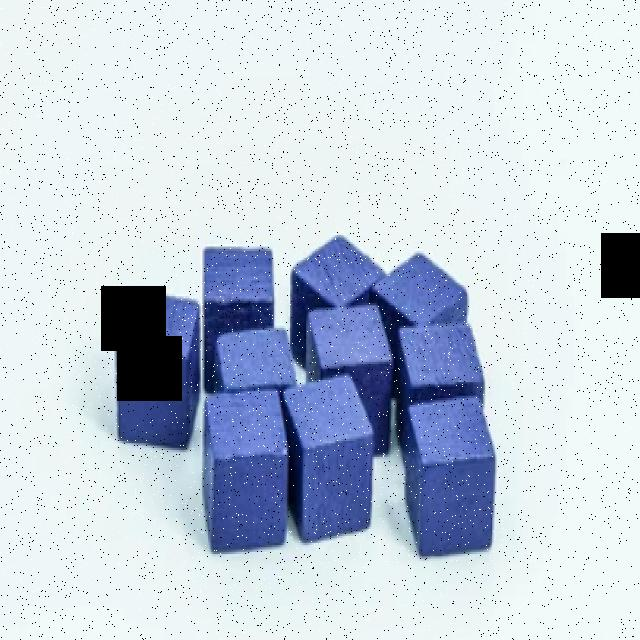bluecube: (280, 372, 375, 544), (370, 250, 468, 403), (201, 386, 289, 555), (403, 398, 495, 557), (116, 291, 201, 452), (393, 322, 484, 469), (290, 233, 387, 370), (306, 306, 393, 457), (203, 248, 274, 393), (211, 329, 295, 393)
